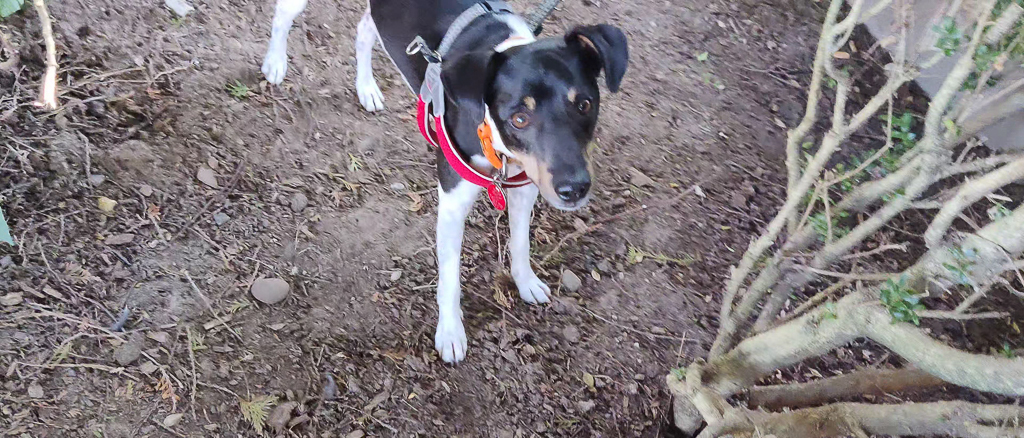Dog: (251, 0, 643, 372)
